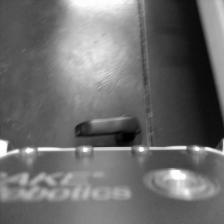Door Handle: (73, 112, 144, 146)
